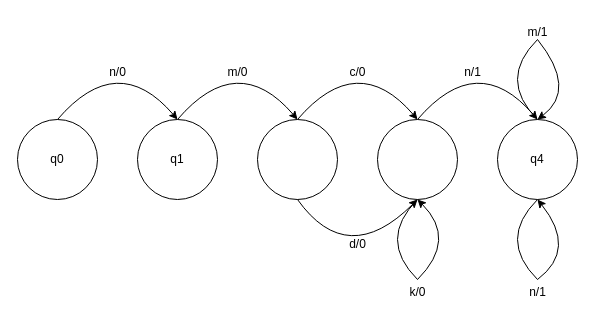
The diagram is 595 pixels wide and 324 high, and some of its shapes have lost their labels. The shapes that lost their labels are listed below. From the top down, each one's centre as x and y in pixels, then its label:
At [297,159]: "q2".
At [417,159]: "q3".
